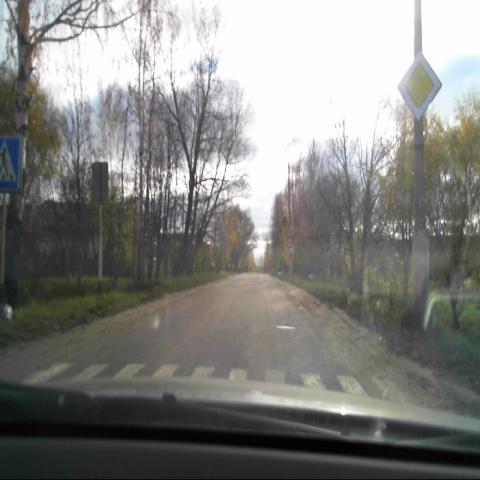2_1: (398, 49, 442, 123)
